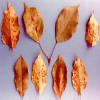Apple Scab Leaf: (54, 3, 86, 48), (22, 3, 45, 50), (1, 2, 20, 53), (51, 51, 69, 99), (71, 50, 88, 99), (31, 52, 48, 99), (13, 55, 30, 99), (84, 10, 99, 49)
